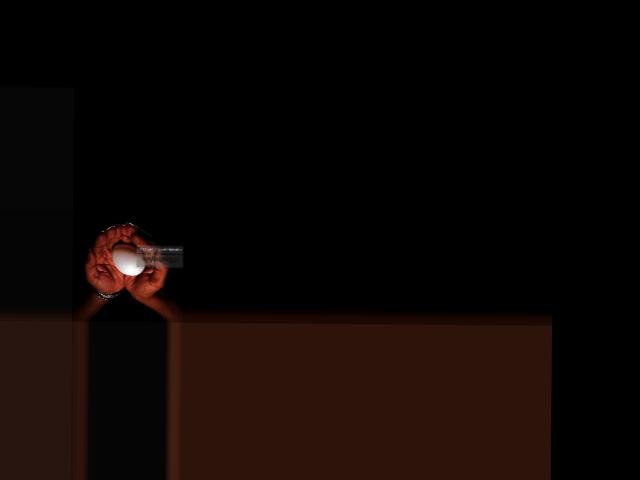egg: (110, 242, 143, 275)
